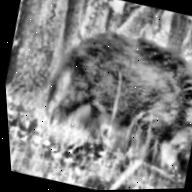boar: (35, 24, 192, 179)
